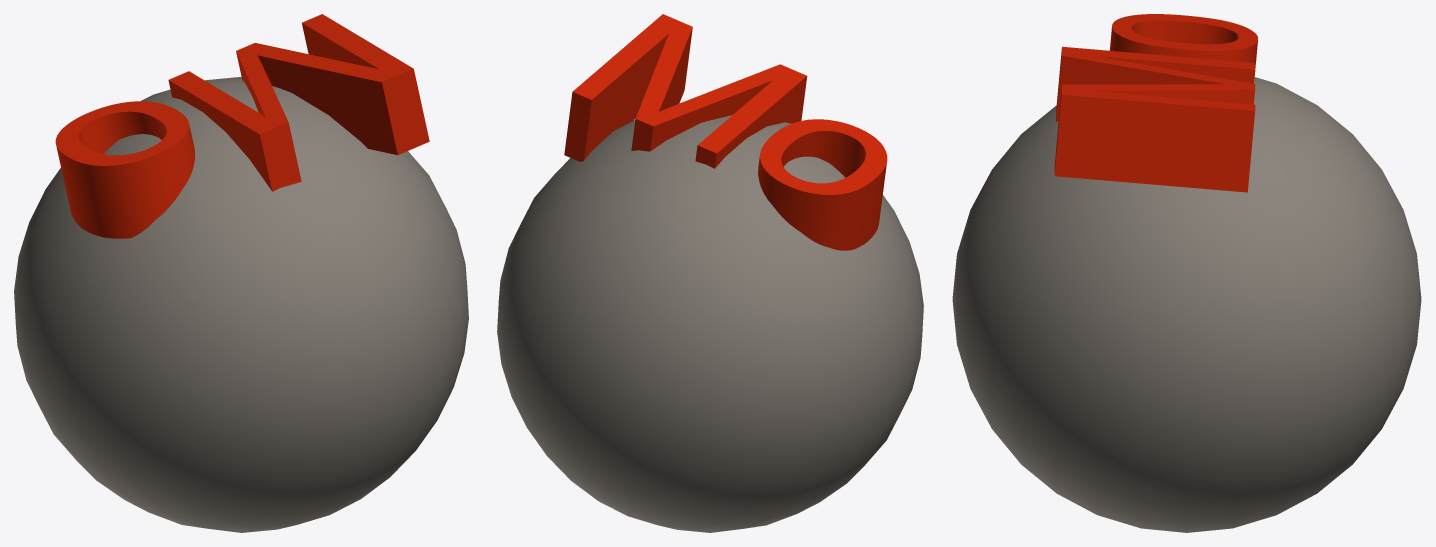
3 renders of one model, left to right at view 1: azimuth 30°, elevation 25°; view 2: azimuth 150°, elevation 25°; view 3: azimuth 270°, elevation 25°, orthographic. The views are drawn at different scales.
Visible parts, largest first — view 1: Mo; view 2: Mo; view 3: Mo.
Part boxes in pixels (x1=…): Mo: x1=14, y1=14, x2=468, y2=532; Mo: x1=497, y1=14, x2=923, y2=532; Mo: x1=952, y1=14, x2=1421, y2=532.
Size of the model in its own units: 38.71 by 43.11 by 38.75.
